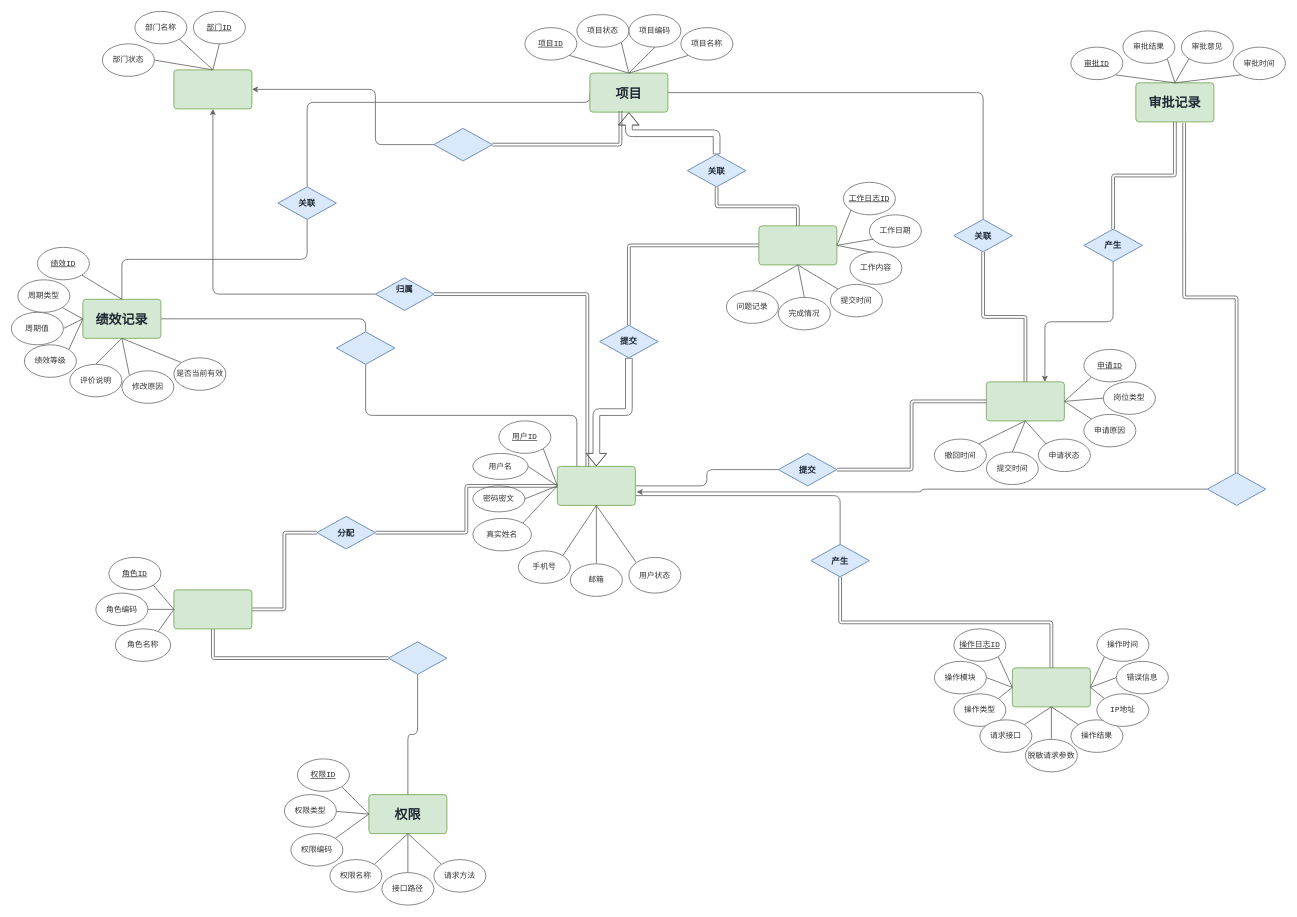
The diagram is 1297 pixels wide and 917 high, and some of its shapes have lost their labels. The centre of each missing label's shape, as x and y in pixels:
"上岗申请" goes at point 1025,401.
"审批" goes at point 1236,489.
"工作日志" goes at point 797,245.
"授权" goes at point 417,658.
"操作日志" goes at point 1051,687.
"用户" goes at point 596,486.
"管理" goes at point 463,144.
"角色" goes at point 212,609.
"评定" goes at point 365,348.
"部门" goes at point 212,89.
